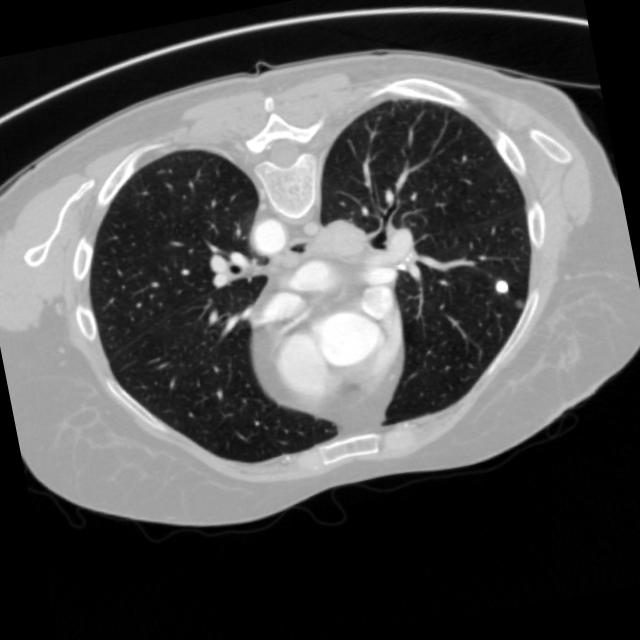nodule: (484, 270, 520, 304)
